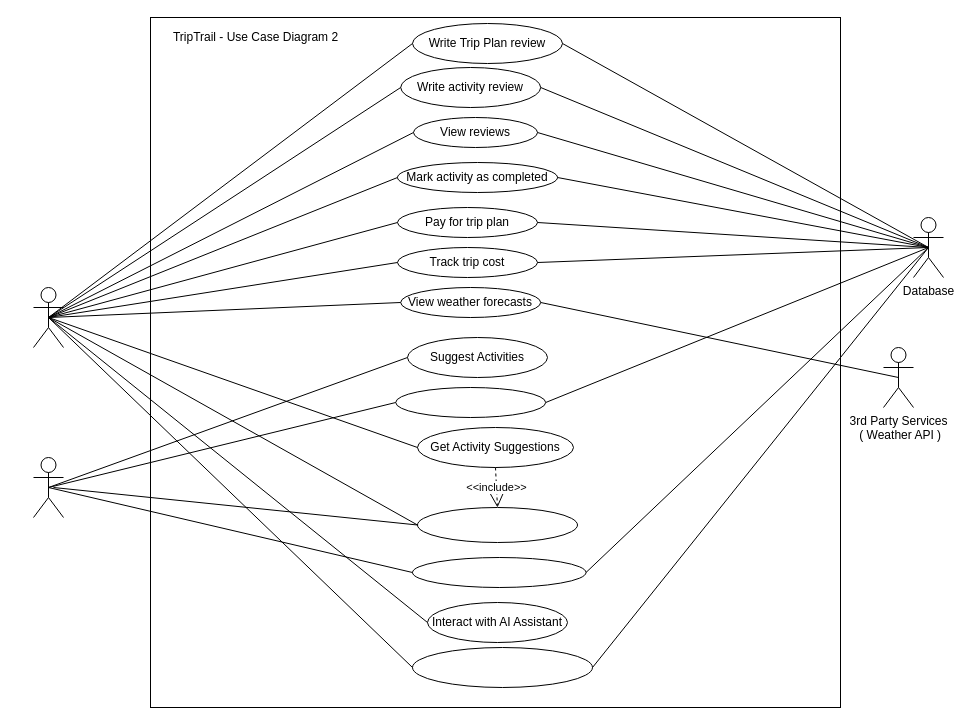
Some shapes in this 971 by 725 pixel diagram are drawn without their labels. Each missing label, with the box of its shape:
Add AI-Suggested Activity to Daily Plan: (412, 646, 592, 688)
AI Assistant: (32, 456, 64, 518)
Answer Trip Plan Questions: (412, 556, 586, 588)
Filter suggested activities: (416, 506, 578, 542)
Generate New Trip Plan: (395, 386, 546, 418)
User: (32, 286, 64, 348)
